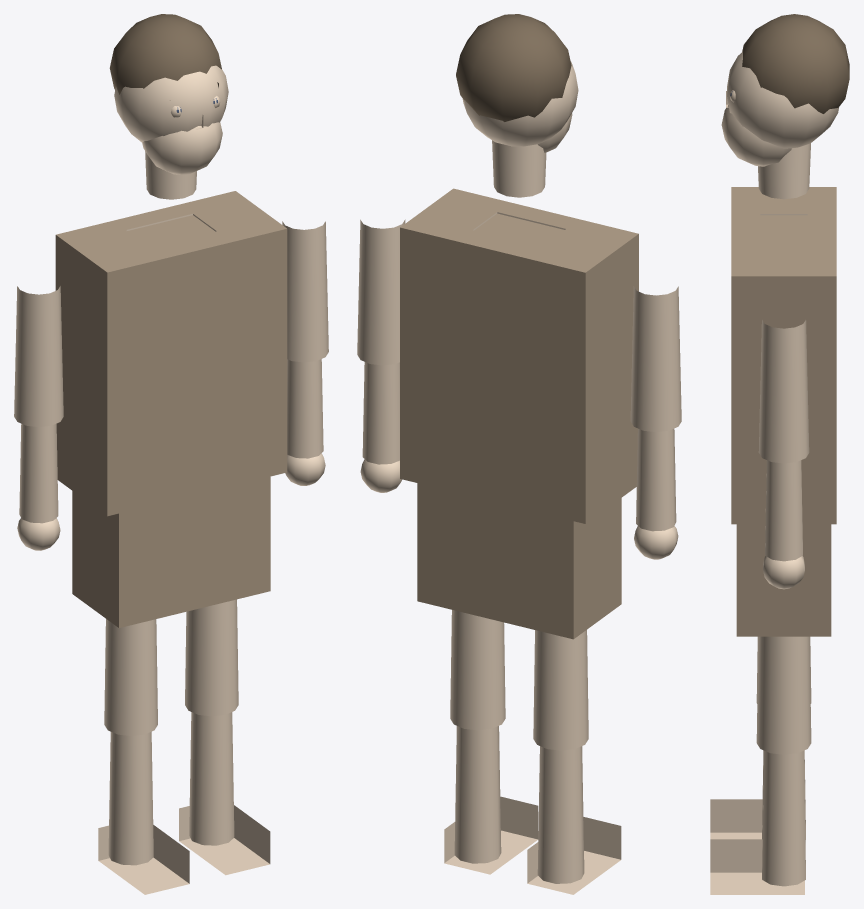
The model's file is body.glb.
3 views of the same model, side by side, from view 1: azimuth 30°, elevation 25°; view 2: azimuth 150°, elevation 25°; view 3: azimuth 270°, elevation 25° (orthographic). The views are drawn at different scales.
Parts seen in each view (by area): view 1: Cloth, Skin, Hair; view 2: Cloth, Skin, Hair; view 3: Skin, Cloth, Hair.
Part boxes in pixels (x1,y1,x2,y2): Cloth: (55, 191, 287, 627); Skin: (14, 65, 328, 894); Hair: (109, 14, 221, 100); Cloth: (400, 188, 638, 639); Skin: (357, 61, 681, 894); Hair: (456, 14, 571, 121); Skin: (710, 52, 838, 894); Cloth: (731, 187, 836, 636); Hair: (742, 14, 849, 113).
Bounding box in the file's own units: 0.6879 × 1.77 × 0.2646.
